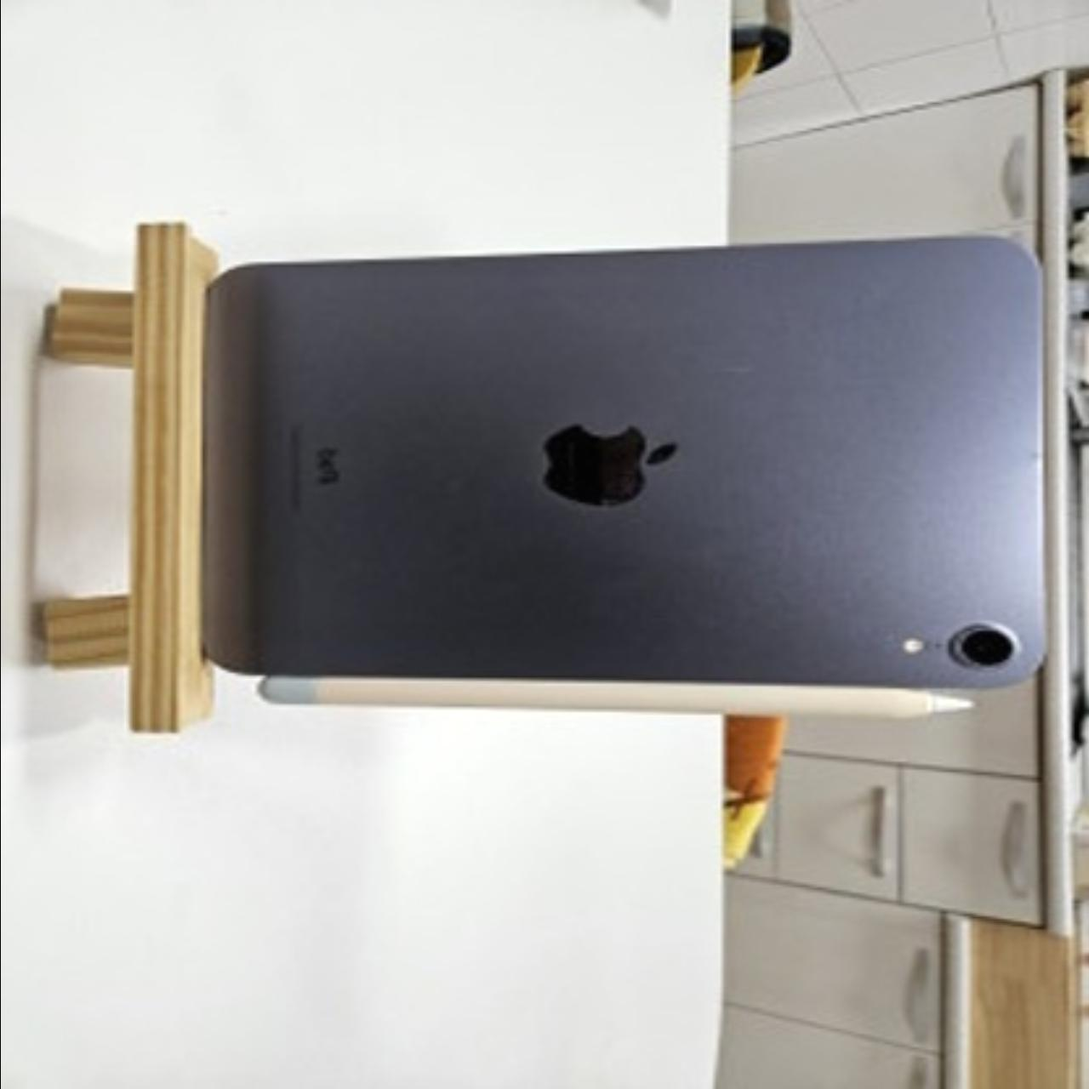Tablet_PC: (205, 223, 1058, 738)
